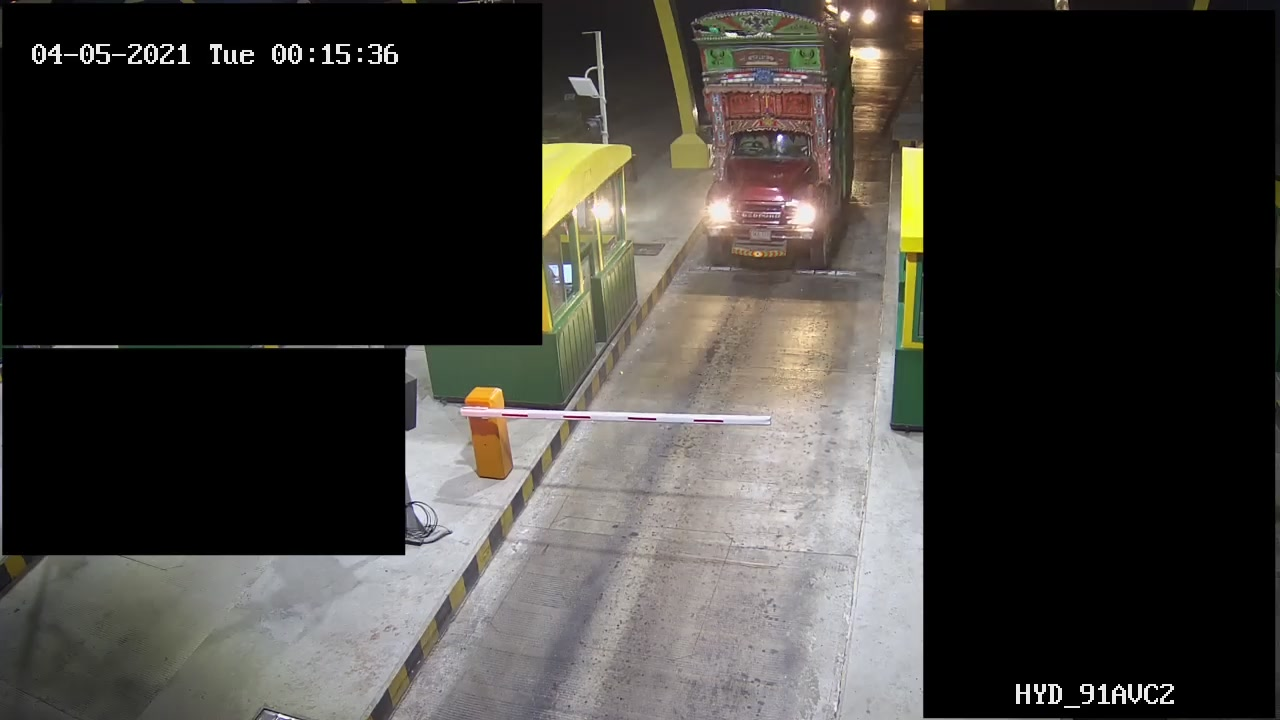F5: (697, 1, 855, 256)
